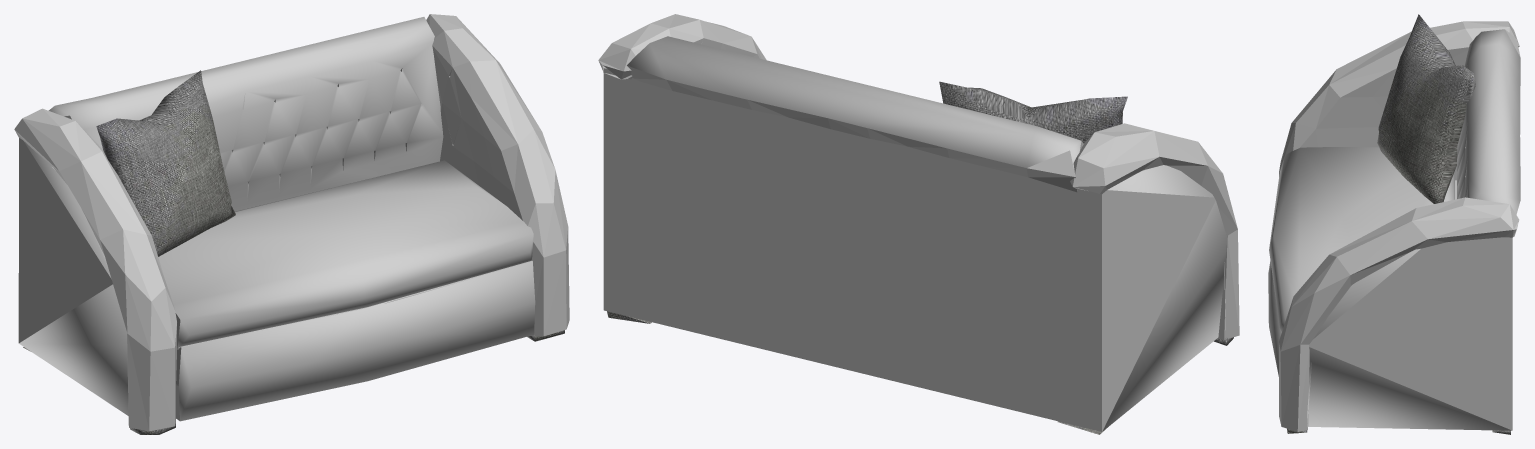
Rendered from round_sofa.dae.
The picture shows the model from 3 angles, left to right: view 1: azimuth 30°, elevation 25°; view 2: azimuth 150°, elevation 25°; view 3: azimuth 270°, elevation 25°; orthographic projection. The views are drawn at different scales.
Parts seen in each view (by area): view 1: ROUND SOFA; view 2: ROUND SOFA; view 3: ROUND SOFA.
Boxes of the visible parts, bbox=[...] form: ROUND SOFA: bbox=[14, 14, 569, 434]; ROUND SOFA: bbox=[598, 14, 1239, 434]; ROUND SOFA: bbox=[1268, 14, 1520, 434].
Size of the model in its own units: 1.65 by 0.8703 by 0.9104.
